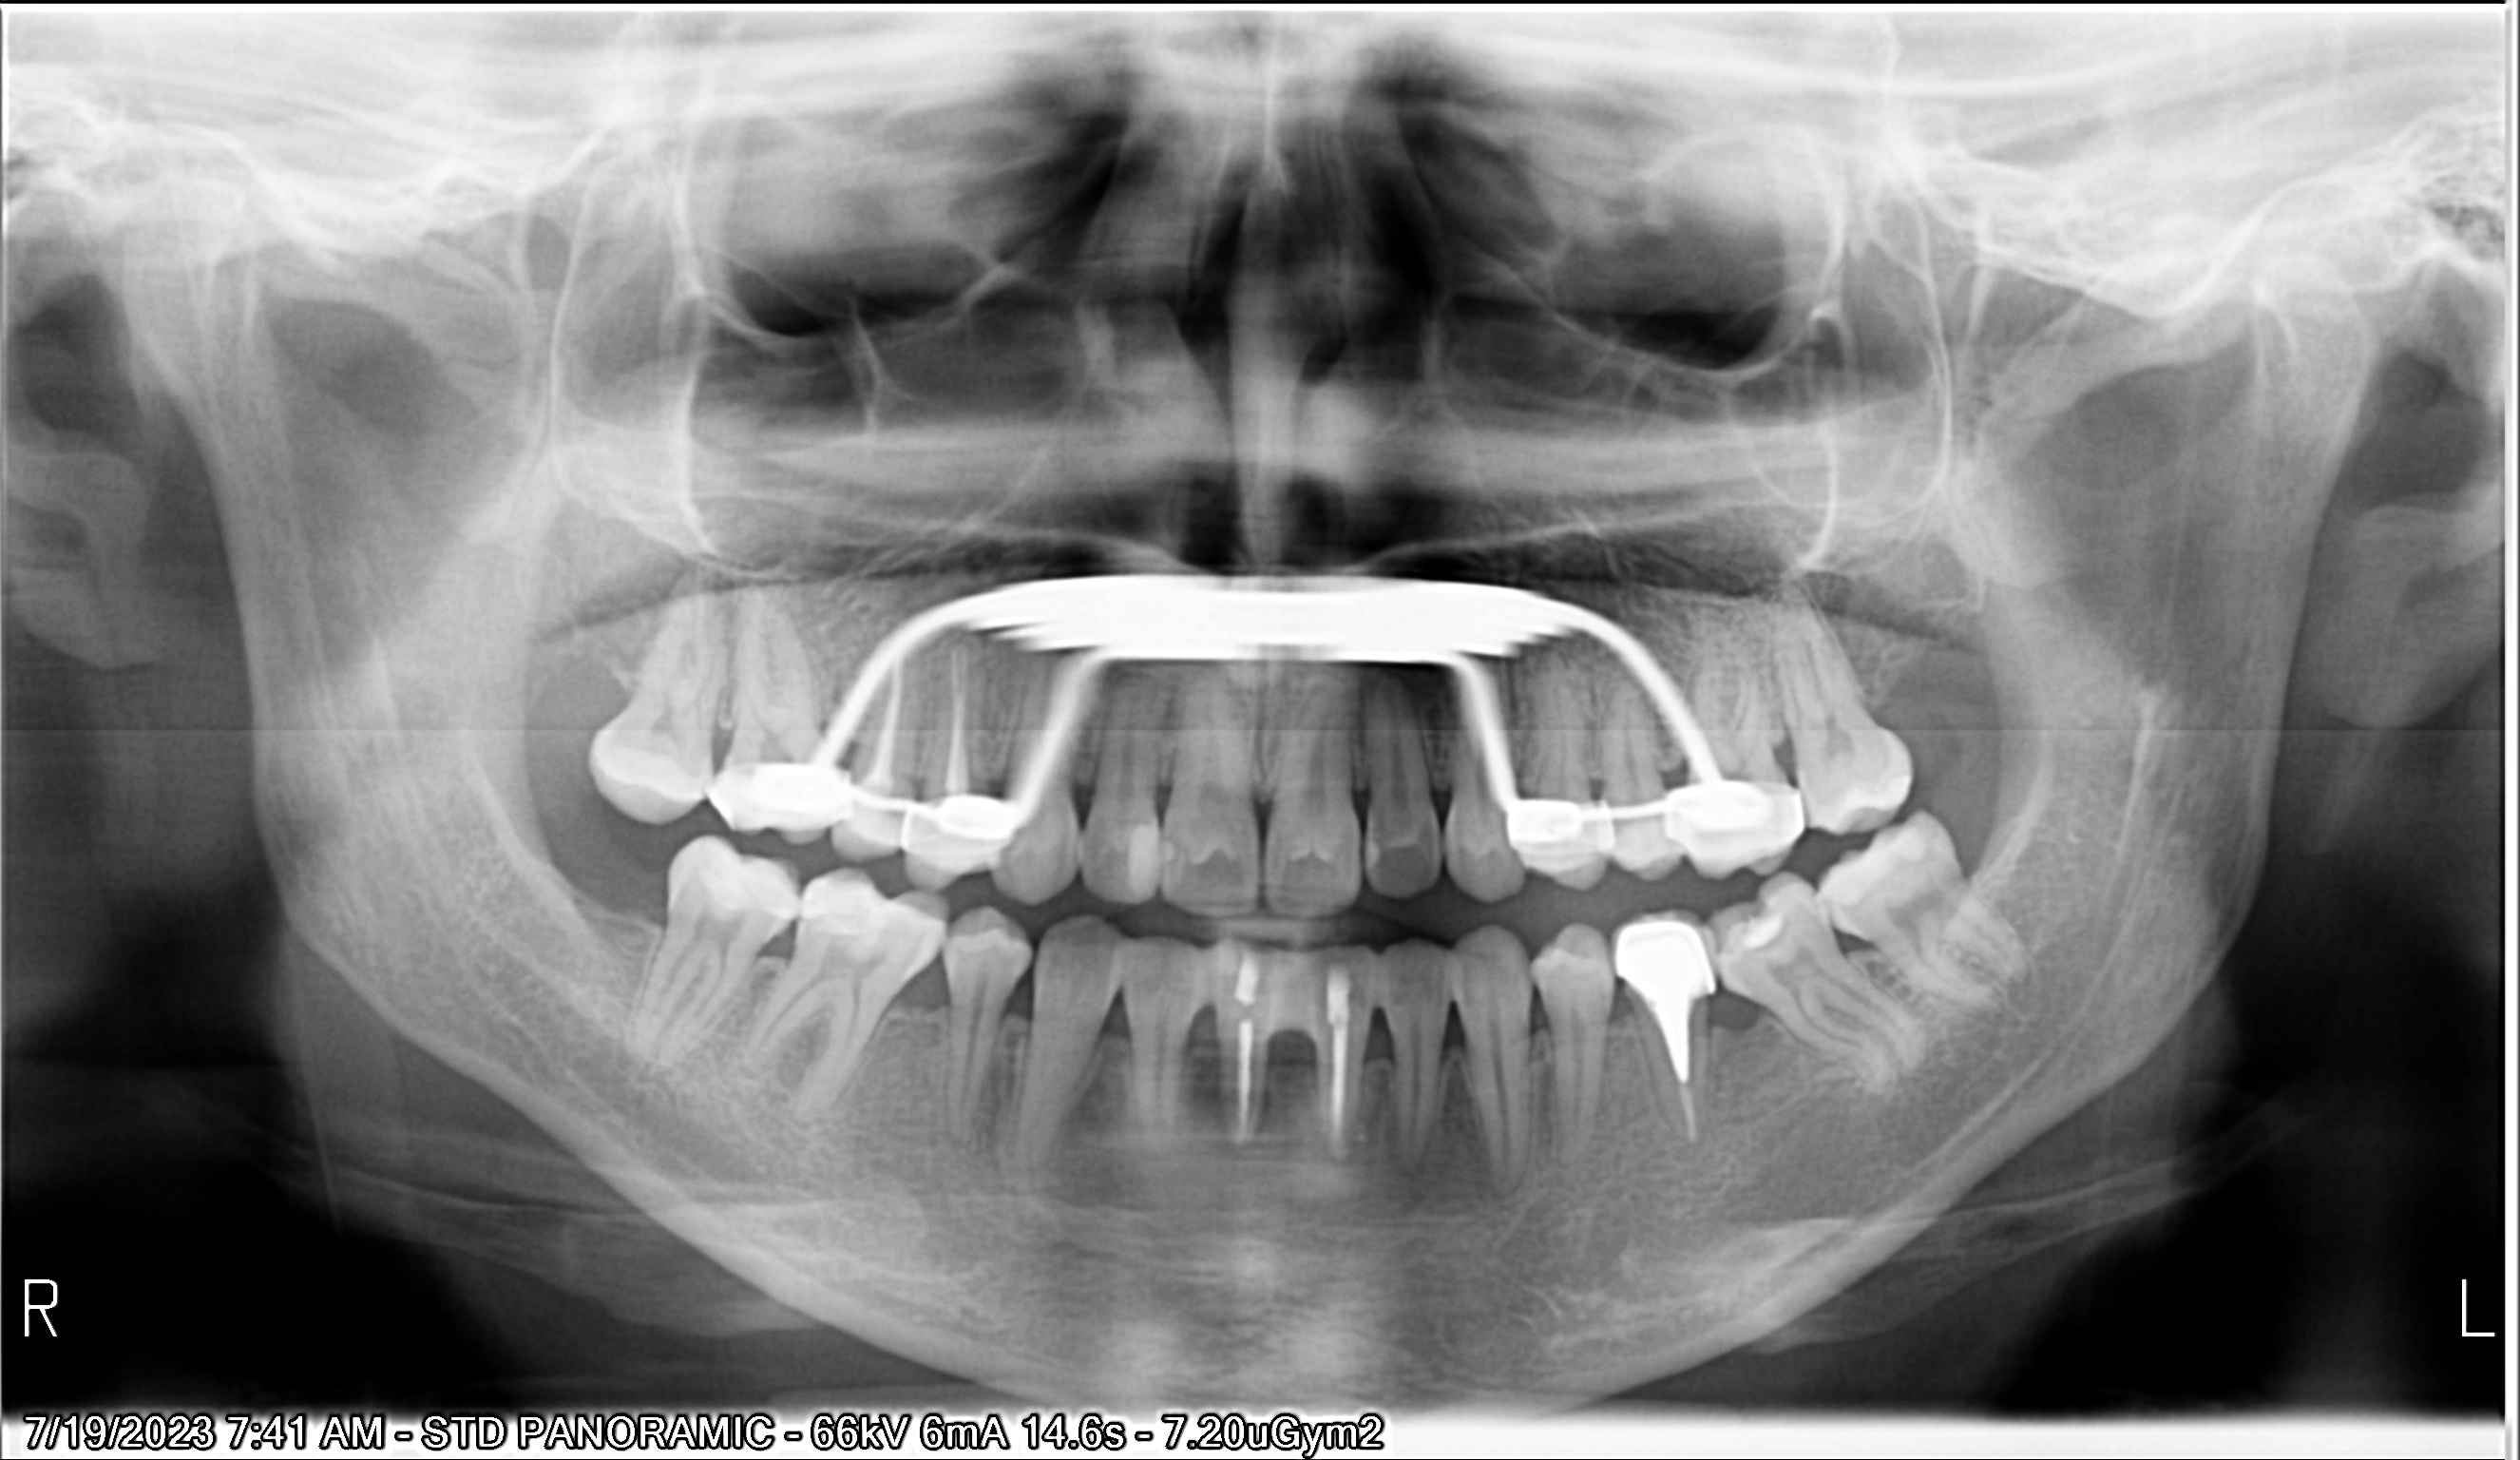CAR: (1756, 935, 1777, 965)
END: (934, 614, 980, 784), (1226, 1013, 1268, 1154), (1669, 1013, 1711, 1154), (875, 614, 898, 779), (1329, 1034, 1355, 1151)
OBT: (709, 845, 785, 926), (1824, 831, 1931, 881), (1318, 954, 1363, 1015), (827, 888, 882, 937), (1230, 946, 1271, 999), (1735, 897, 1803, 930)
ORD: (908, 581, 1648, 733)
PRR: (1617, 932, 1714, 1029)
